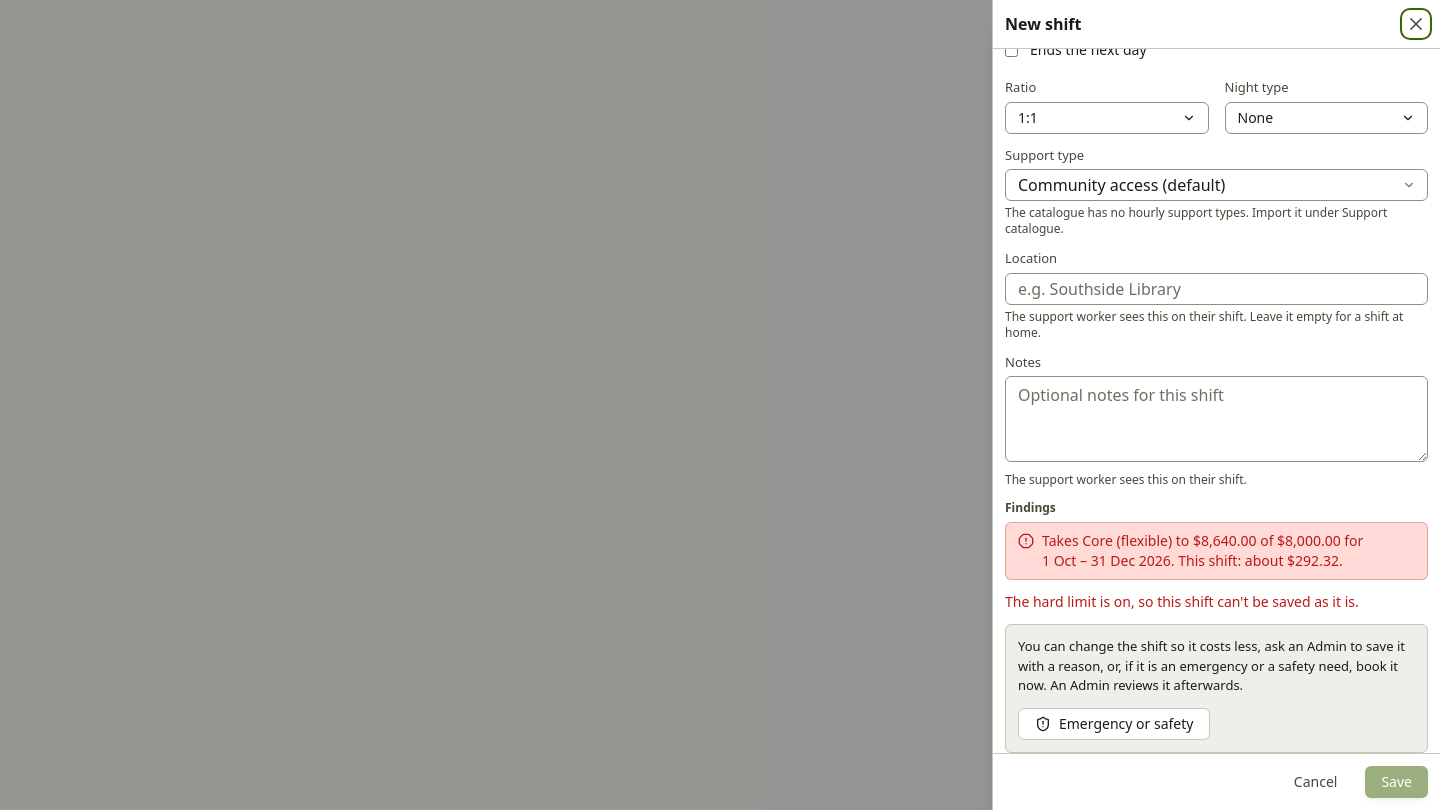
Test: a Coordinator the budget refused › stays on the emergency path with the description intact when the server refuses the save
This screenshot has width=1440, height=810.
(page scrolled)
Check: the text "Takes Core" is shown, box [1042,531,1363,570]
Click the button "Emergency or safety": [1114, 724] box [1018,708,1210,740]
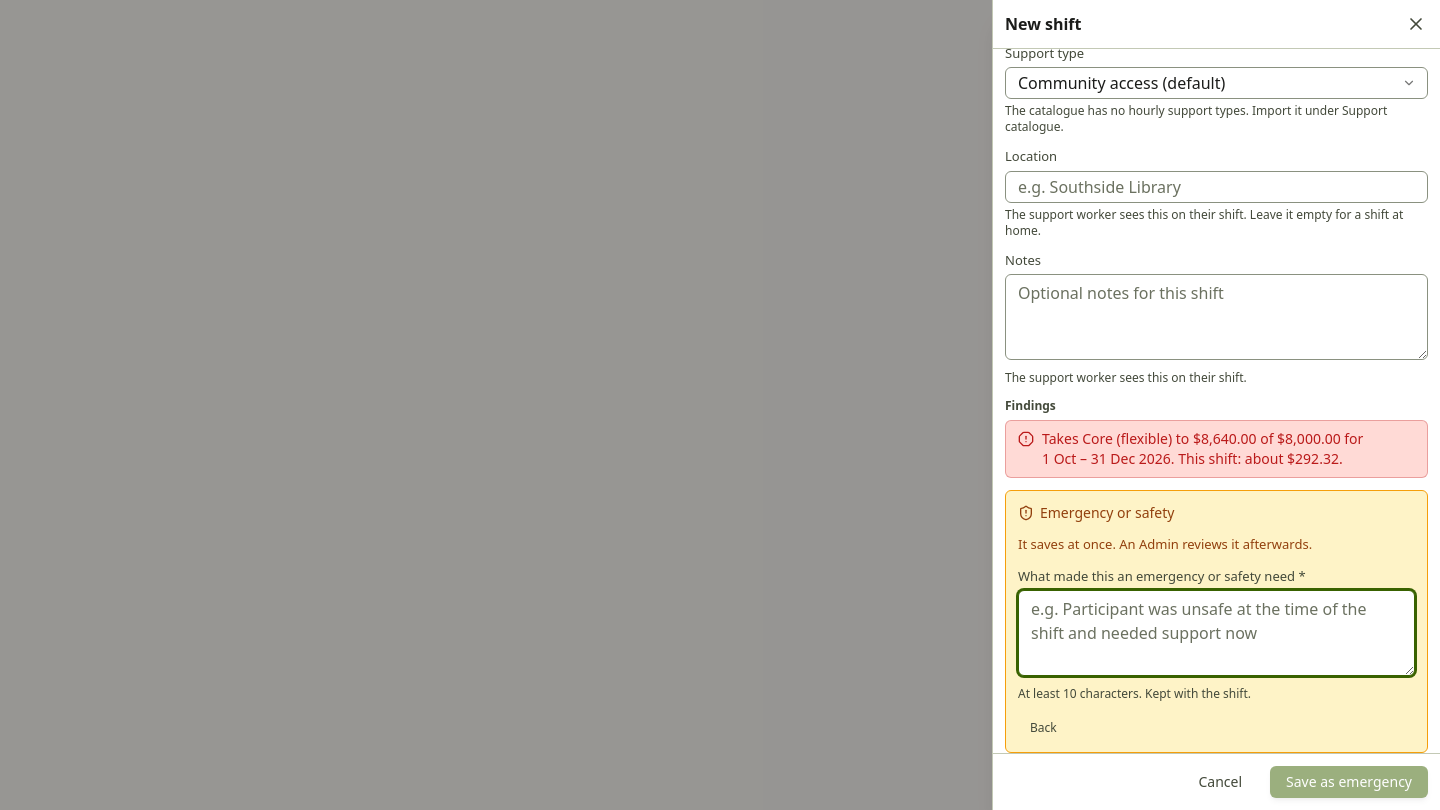
In the text box labelled "What made this an emergency or safety need *": [1216, 633] box [1018,590,1415,676], type "Participant unsafe at home tonight"
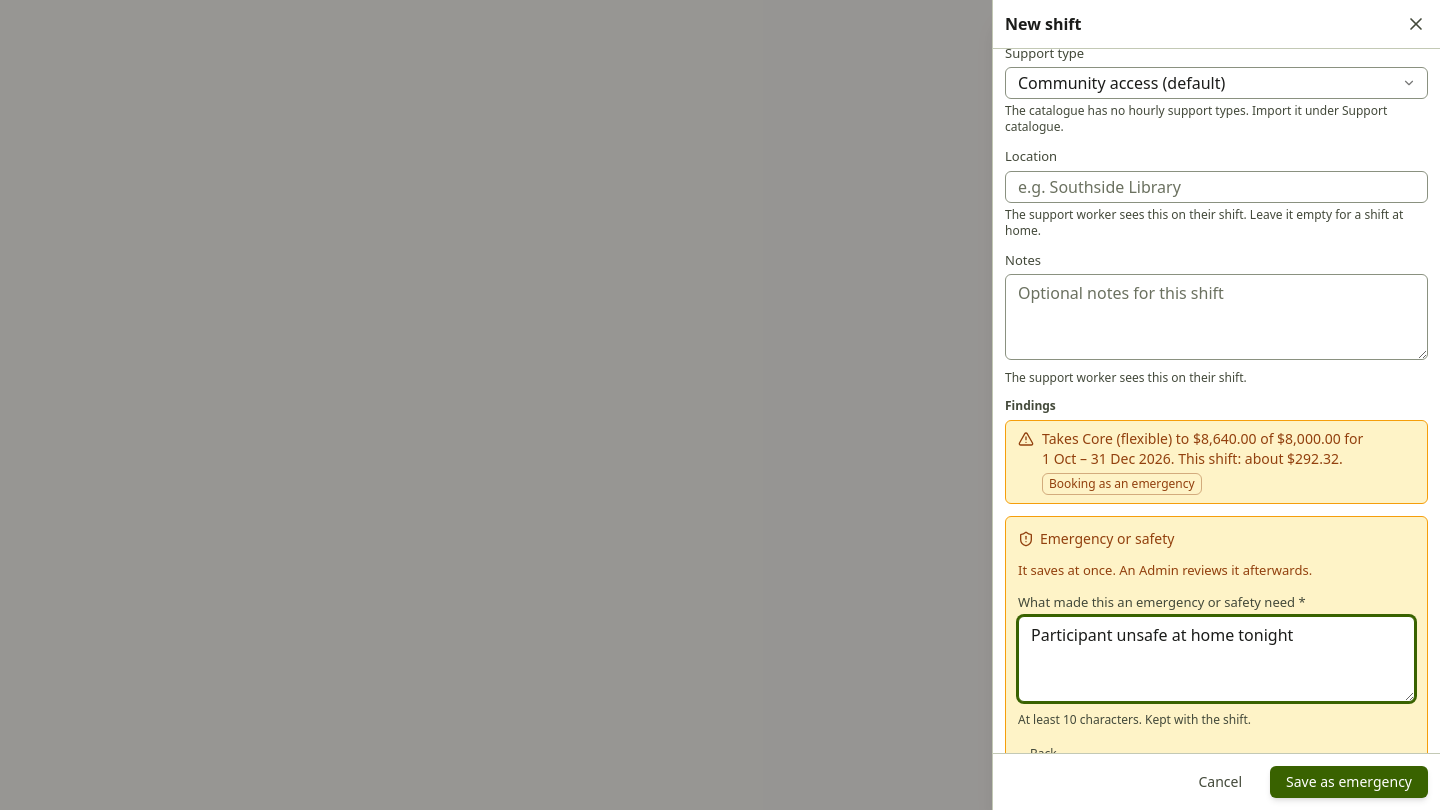
Click the button "Save as emergency": [1349, 782] box [1270,766,1428,798]
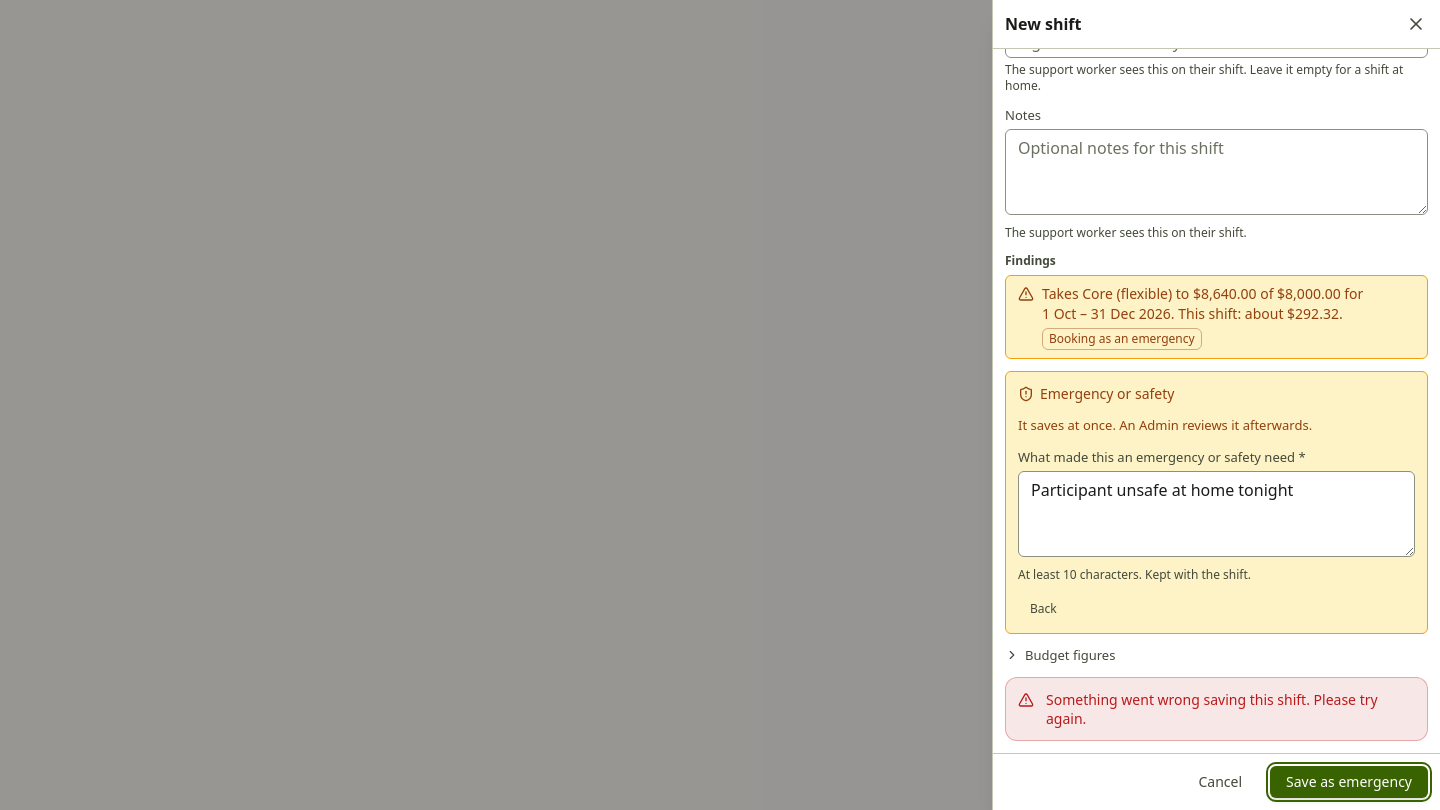
Check: the button "Save as emergency" is enabled, box [1270,766,1428,798]
Check: the text "Something went wrong saving this shift. Please try again." is shown, box [1046,690,1415,728]
